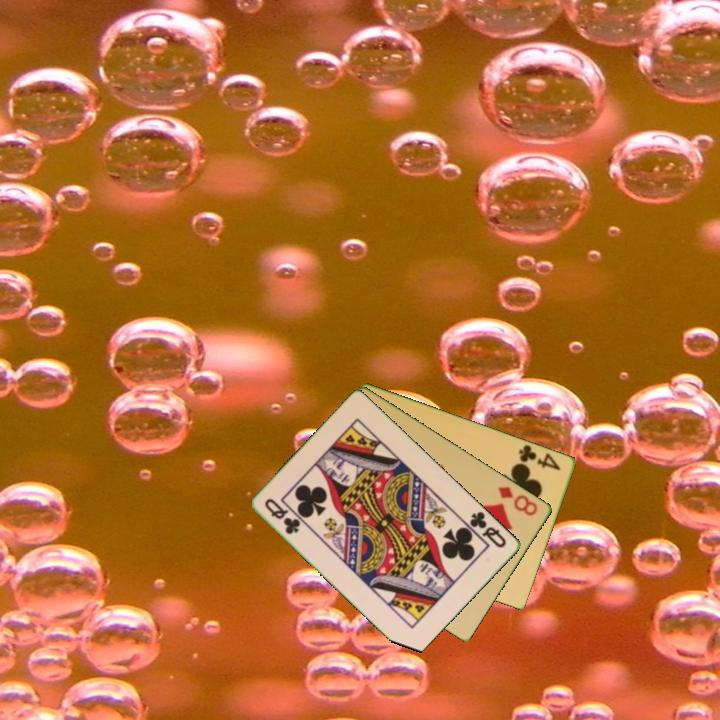4c: (515, 441, 563, 473)
8d: (495, 483, 541, 519)
Qc: (466, 508, 509, 551), (261, 495, 304, 537)
